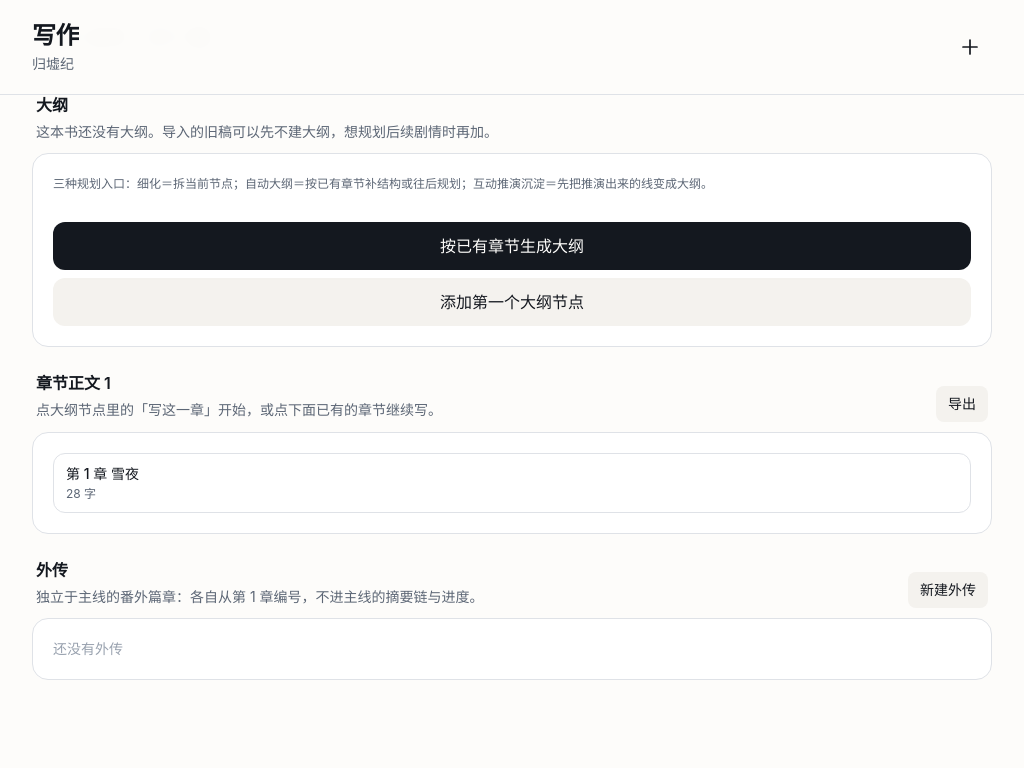
结果卡片 › 定位：面板关闭，选区落在原句上
(page scrolled)
Step 1. Click the button with aria-label "继续写第 1 章" → x=123, y=473, box [53,452,971,512]
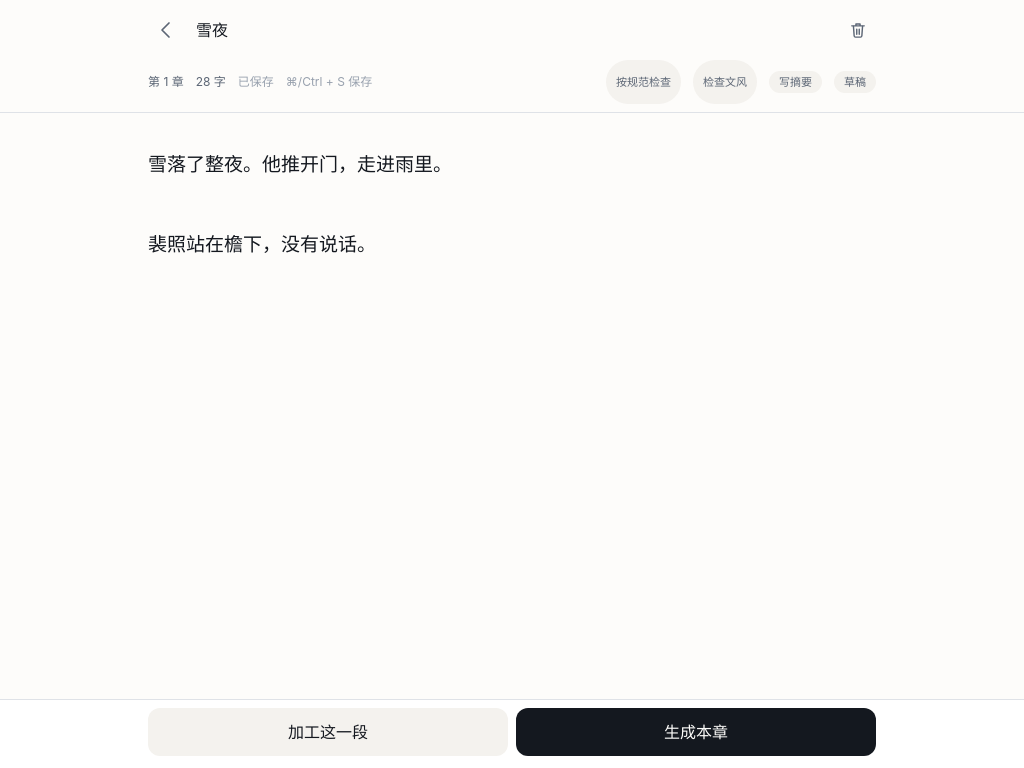
Check: the text box named "章节正文" is shown, box [144,113,880,699]
Step 2. Click the button "按规范检查" → x=644, y=82, box [606,60,681,104]
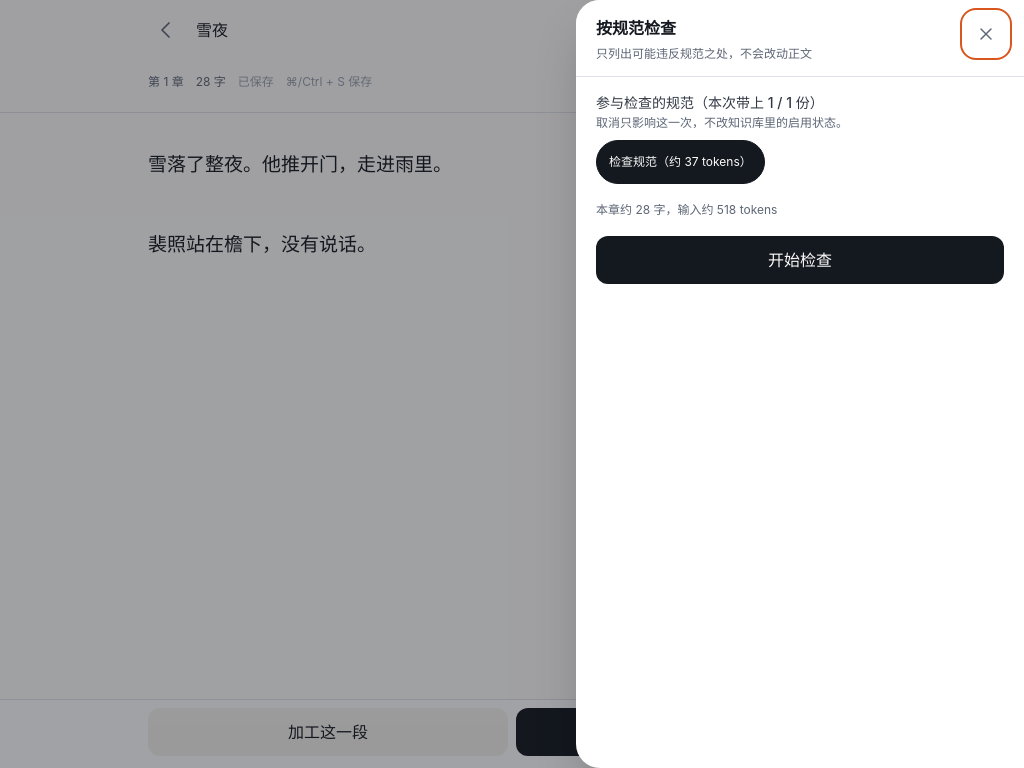
Step 3. Click the button "开始检查" → x=800, y=260, box [596,236,1004,284]
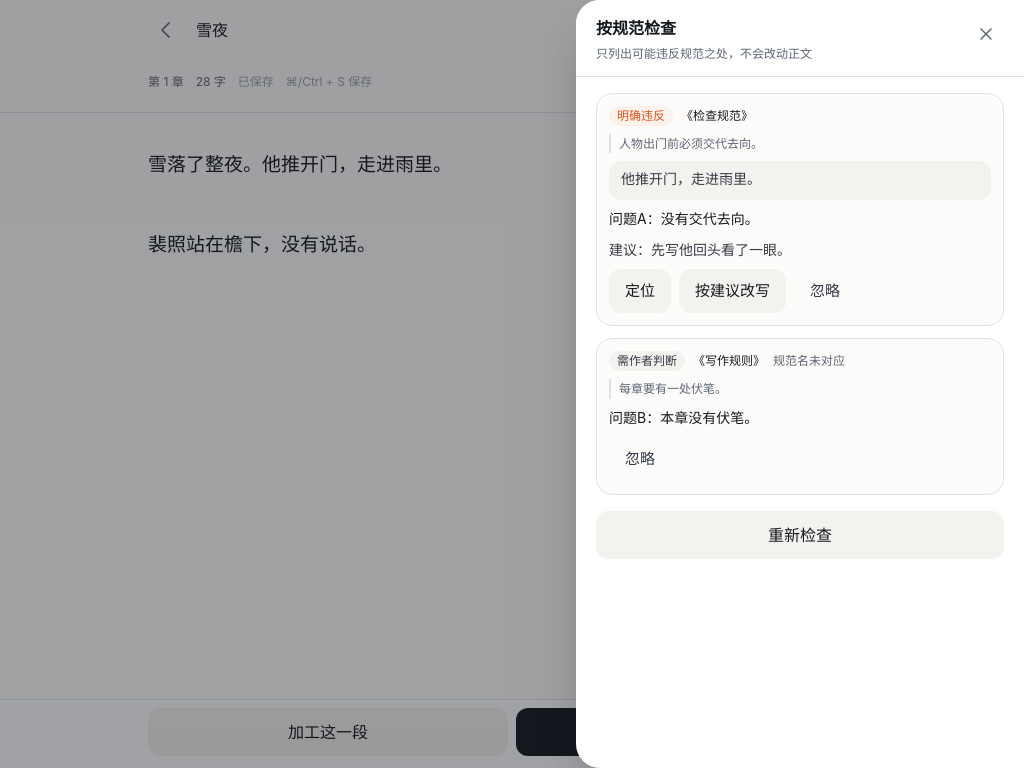
Check: the text "问题A：没有交代去向。" is shown, box [609,210,759,227]
Step 4. Click the button "定位" → x=640, y=291, box [609,269,671,313]
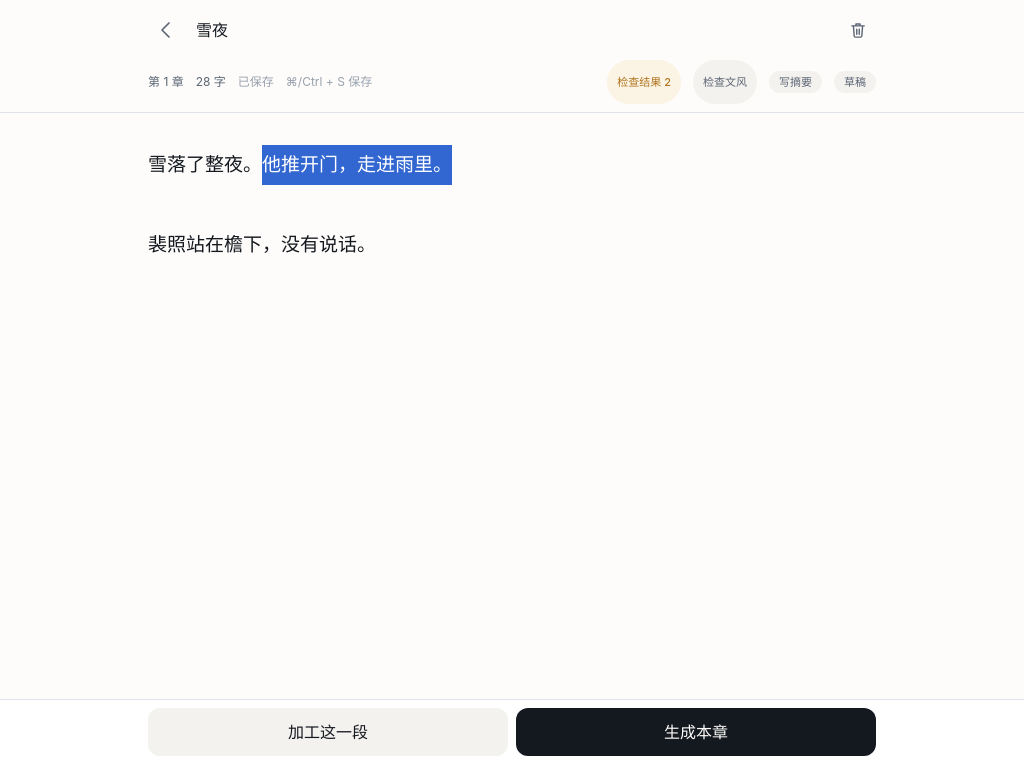
Check: the heading "按规范检查" is gone
